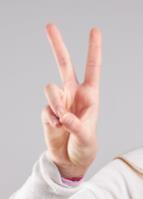front: (37, 20, 103, 175)
